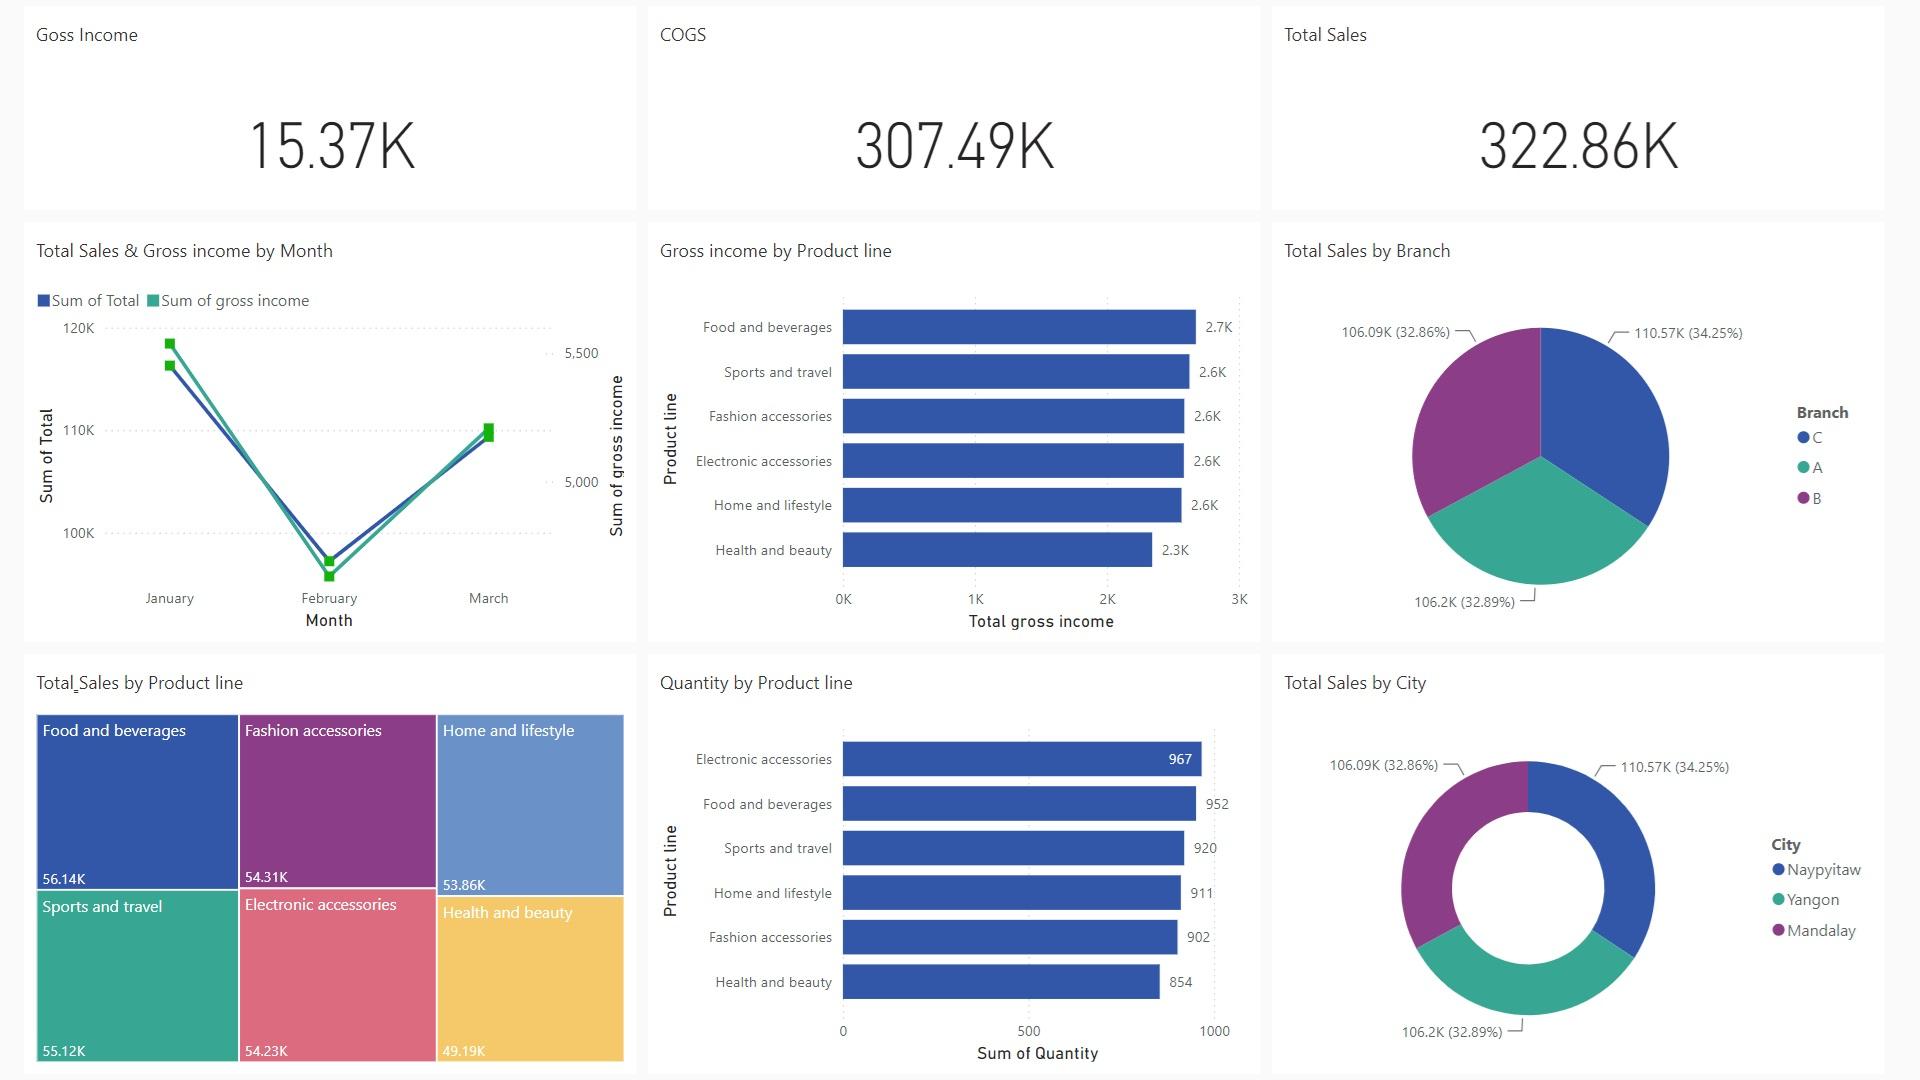

The dashboard page shown, as its layout file describes it:
{"tool":"powerbi","page":{"name":"Page 1","canvas":[1280,720],"ordinal":0},"visuals":[{"type":"card","fields":{"Values":["Sum(supermarket_sales.gross income)"]},"box":[0,63.6,234.8,105.2],"z":0},{"type":"card","fields":{"Values":["Sum(supermarket_sales.Total)"]},"box":[472,63.6,210.3,105.2],"z":1000},{"type":"card","fields":{"Values":["Sum(supermarket_sales.cogs)"]},"box":[246.4,63.6,214,105.2],"z":2000},{"type":"pieChart","title":"Total Sales by Branch","fields":{"Category":["supermarket_sales.Branch"],"Y":["Sum(supermarket_sales.Total)"]},"box":[0,182.2,337.4,243.9],"z":3000},{"type":"donutChart","title":"Total Sales by City","fields":{"Category":["supermarket_sales.City"],"Y":["Sum(supermarket_sales.Total)"]},"box":[348.5,182.2,333.8,245.8],"z":4000},{"type":"treemap","title":"Total ٍSales by Product line","fields":{"Group":["supermarket_sales.Product line"],"Values":["Sum(supermarket_sales.Total)"]},"box":[0,437.5,337.5,282.5],"z":5000},{"type":"columnChart","title":"Total Sales by Gender","fields":{"Category":["supermarket_sales.Gender"],"Y":["Sum(supermarket_sales.Total)"]},"box":[1049.2,393.8,231.1,326.5],"z":6000},{"type":"slicer","fields":{"Values":["supermarket_sales.Date.Variation.Date Hierarchy.Month"]},"box":[1049.2,63.6,231.1,320.4],"z":7000},{"type":"lineChart","title":"Total Sales & Gross income by Month","fields":{"Y":["Sum(supermarket_sales.Total)"],"Category":["supermarket_sales.Date.Variation.Date Hierarchy.Month"],"Y2":["Sum(supermarket_sales.gross income)"]},"box":[690.9,437.8,344.8,282.5],"z":8000},{"type":"clusteredBarChart","title":"Gross income by Product line","fields":{"Category":["supermarket_sales.Product line"],"Y":["Sum(supermarket_sales.gross income)"]},"box":[690.9,63.6,344.8,363.2],"z":9000},{"type":"clusteredBarChart","title":"Quantity by Product line","fields":{"Category":["supermarket_sales.Product line"],"Y":["Sum(supermarket_sales.Quantity)"]},"box":[348.5,437.8,333.8,282.5],"z":10000},{"type":"textbox","box":[0,0,1280.3,52.6],"z":11000}]}

Visuals, with their boxes in screenshot pixels (x1, y1, x2, y2), scaled from the page's 1280x720 canvas onto the 1920x1080 screenshot:
card - Sum(supermarket_sales.gross income): 0, 95, 352, 253
card - Sum(supermarket_sales.Total): 708, 95, 1023, 253
card - Sum(supermarket_sales.cogs): 370, 95, 691, 253
"Total Sales by Branch" pieChart: 0, 273, 506, 639
"Total Sales by City" donutChart: 523, 273, 1023, 642
"Total ٍSales by Product line" treemap: 0, 656, 506, 1079
"Total Sales by Gender" columnChart: 1574, 591, 1919, 1079
slicer - supermarket_sales.Date.Variation.Date Hierarchy.Month: 1574, 95, 1919, 576
"Total Sales & Gross income by Month" lineChart: 1036, 657, 1554, 1079
"Gross income by Product line" clusteredBarChart: 1036, 95, 1554, 640
"Quantity by Product line" clusteredBarChart: 523, 657, 1023, 1079
textbox: 0, 0, 1919, 79
